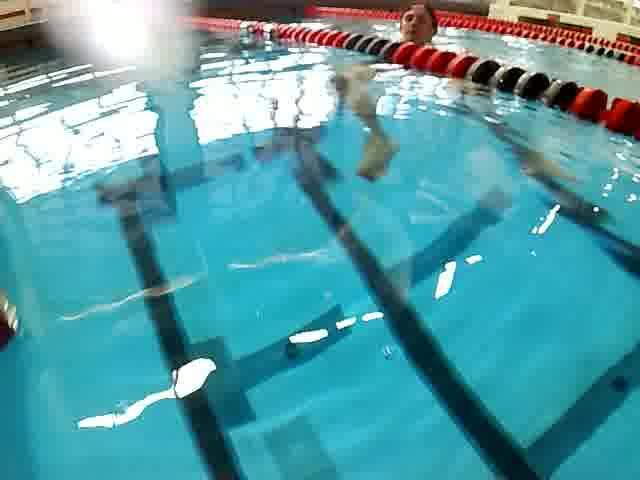Can: (234, 13, 258, 34), (257, 21, 276, 46)
